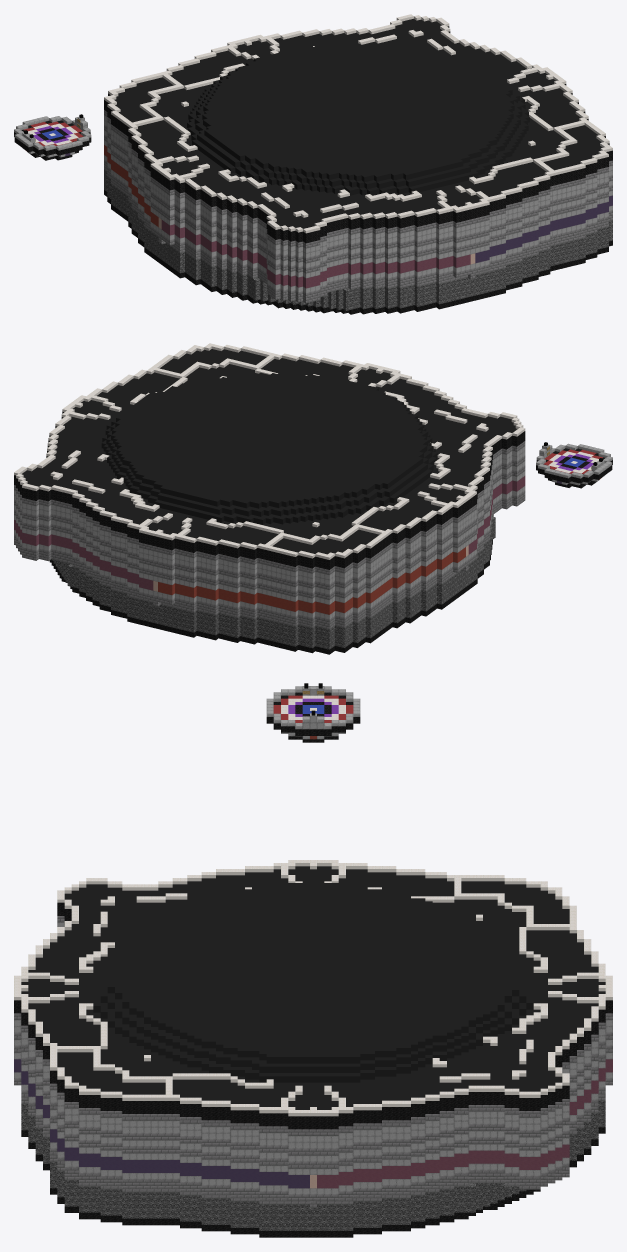
The model's file is minecraft.obj.
The picture shows the model from 3 angles, top to bottom: view 1: azimuth 30°, elevation 25°; view 2: azimuth 150°, elevation 25°; view 3: azimuth 270°, elevation 25°; orthographic projection. The views are drawn at different scales.
Size of the model in its own units: 1120 by 345 by 830.
